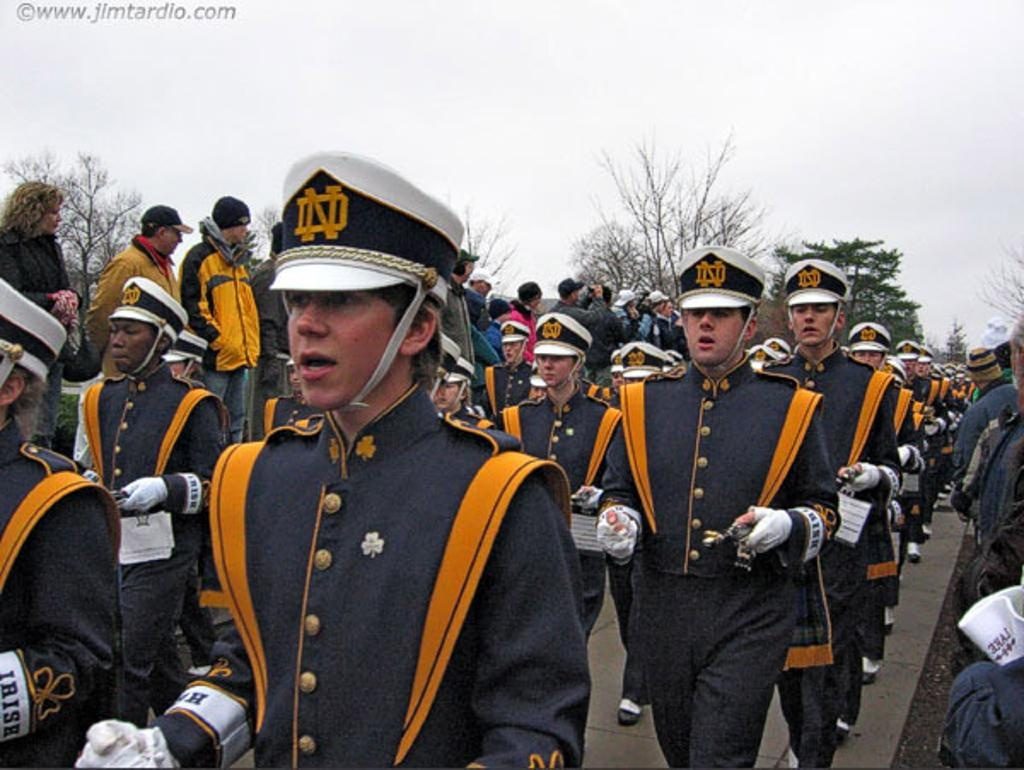human_face: (285, 272, 399, 406), (686, 302, 744, 362), (109, 317, 157, 373), (790, 300, 834, 344), (536, 345, 572, 385), (854, 345, 882, 379), (36, 199, 62, 235), (155, 222, 183, 253), (432, 376, 458, 406), (528, 382, 550, 408), (230, 219, 248, 243), (502, 338, 520, 362), (612, 371, 628, 393), (457, 260, 473, 282), (899, 354, 915, 376), (914, 359, 926, 377), (478, 280, 490, 296), (528, 294, 540, 306), (662, 302, 672, 316), (569, 286, 579, 300), (502, 309, 512, 322)
